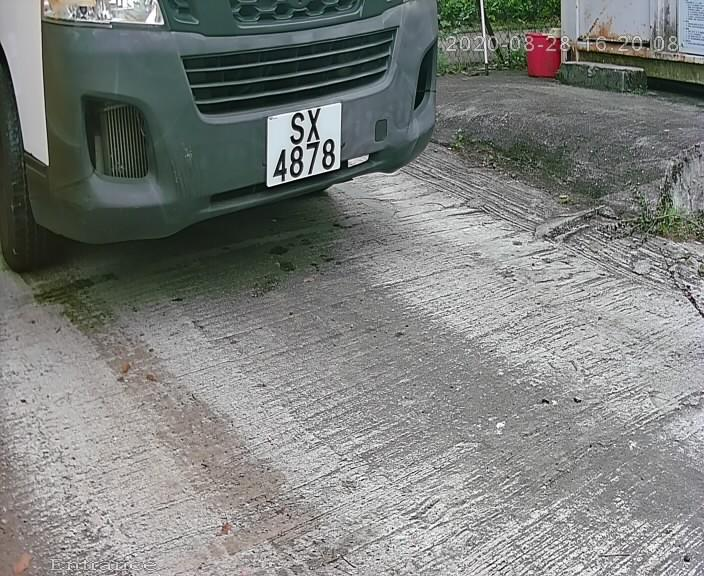Car: (7, 3, 472, 289)
License Plate: (258, 93, 353, 193)
